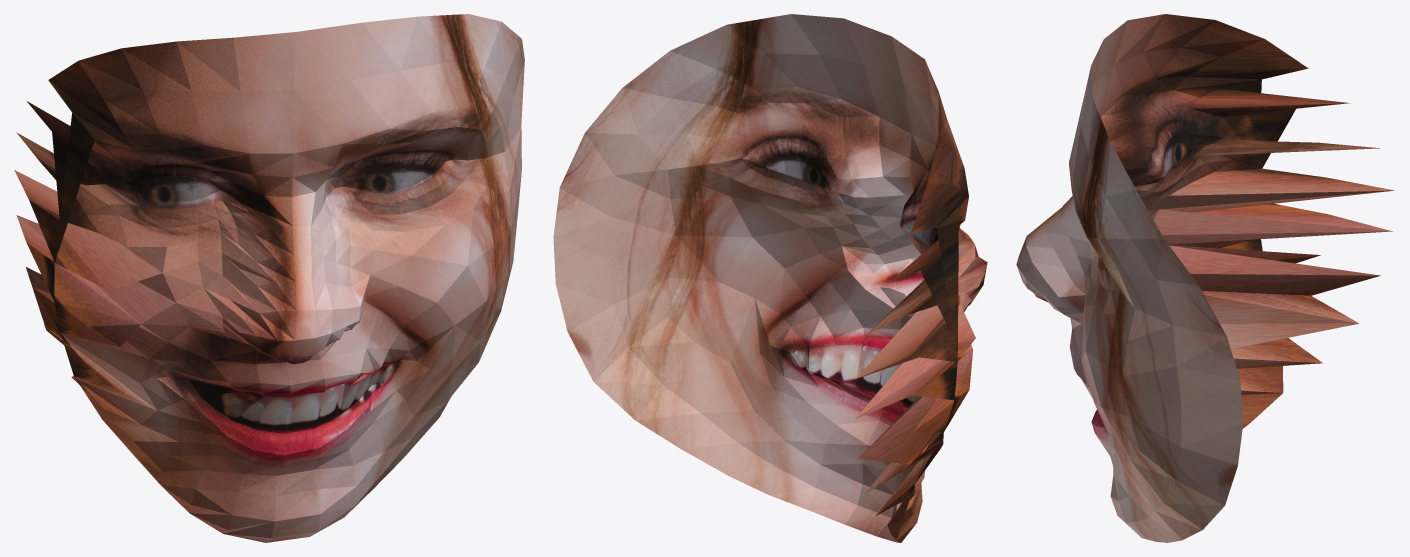
3 renders of one model, left to right at view 1: azimuth 30°, elevation 25°; view 2: azimuth 150°, elevation 25°; view 3: azimuth 270°, elevation 25°, orthographic. The views are drawn at different scales.
Visible parts, largest first — view 1: geometry_0; view 2: geometry_0; view 3: geometry_0.
Boxes of the visible parts, x1,y1,x2,y2 form: geometry_0: (14,14,524,542); geometry_0: (553,14,987,542); geometry_0: (1016,14,1394,542).
Size of the model in its own units: 0.1789 by 0.2 by 0.1444.
Materials: 1 (1 with a texture image).
